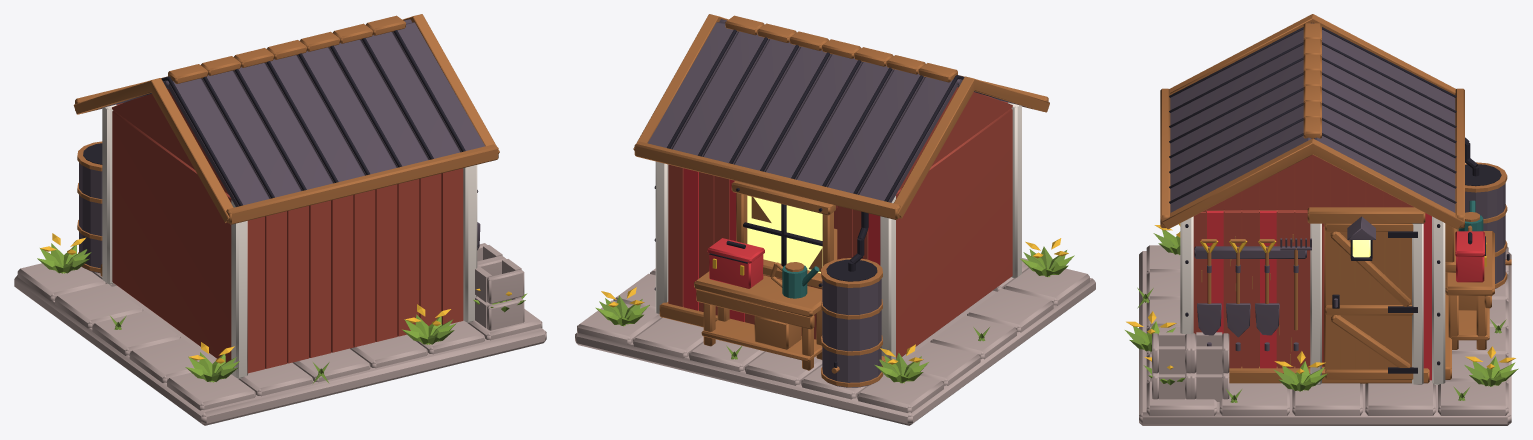
File: bld.shed.glb
3 views of the same model, side by side, from view 1: azimuth 30°, elevation 25°; view 2: azimuth 150°, elevation 25°; view 3: azimuth 270°, elevation 25° (orthographic). The views are drawn at different scales.
Parts seen in each view (by area): view 1: body, roof; view 2: body, roof, window_side; view 3: body, roof, door_main, object 6.
Boxes of the visible parts, bbox=[...] form: body: bbox=[14, 89, 546, 425]; roof: bbox=[73, 14, 499, 224]; body: bbox=[575, 87, 1095, 425]; roof: bbox=[633, 14, 1049, 219]; window_side: bbox=[747, 195, 822, 273]; body: bbox=[1125, 137, 1518, 425]; roof: bbox=[1160, 14, 1464, 229]; door_main: bbox=[1324, 223, 1417, 379]; object 6: bbox=[1347, 216, 1375, 260].
Bounding box in the file's own units: 4.7 × 3.57 × 4.76.
